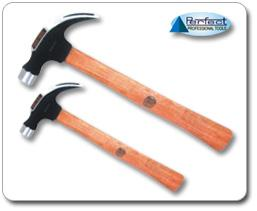hammer: (16, 11, 233, 152), (17, 79, 184, 191)
